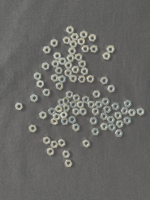nut: (67, 26, 75, 35), (71, 33, 80, 41), (43, 46, 52, 54), (75, 53, 83, 62), (55, 67, 64, 75), (37, 80, 45, 89), (116, 120, 125, 128), (65, 160, 74, 168), (80, 31, 88, 39), (89, 34, 97, 42), (63, 37, 71, 45), (78, 38, 86, 46), (82, 45, 90, 53), (107, 45, 115, 53), (103, 52, 111, 60), (91, 45, 99, 53), (54, 52, 62, 60), (79, 60, 87, 68), (52, 60, 60, 68), (42, 63, 50, 71), (34, 73, 42, 81), (65, 70, 73, 78), (72, 66, 80, 74), (81, 68, 89, 76), (51, 74, 59, 82), (70, 75, 78, 83), (87, 75, 95, 83), (56, 83, 64, 91), (43, 89, 51, 97), (15, 103, 23, 111), (101, 77, 109, 85), (108, 85, 116, 93), (66, 91, 74, 99), (73, 94, 81, 102), (70, 101, 78, 109), (55, 105, 63, 113), (49, 108, 57, 116), (39, 112, 47, 120), (29, 125, 37, 133), (125, 100, 133, 108), (129, 109, 137, 117), (112, 103, 120, 111), (102, 98, 110, 106), (104, 106, 112, 114), (92, 108, 100, 116), (115, 112, 123, 120), (124, 117, 132, 125), (108, 116, 116, 124), (101, 113, 109, 121), (109, 124, 117, 132), (101, 123, 109, 131), (92, 128, 100, 136), (53, 113, 61, 121), (69, 116, 77, 124), (73, 124, 81, 132), (83, 140, 91, 148), (51, 141, 59, 149), (43, 137, 51, 145), (47, 148, 55, 156), (63, 151, 71, 159), (51, 39, 58, 48), (59, 75, 66, 84), (78, 76, 87, 83), (31, 94, 38, 103), (121, 108, 130, 115), (60, 112, 69, 119), (59, 139, 66, 148), (70, 41, 78, 48), (69, 48, 77, 55), (67, 55, 75, 62), (59, 58, 67, 65), (65, 62, 73, 69), (93, 91, 101, 98), (63, 97, 70, 105), (58, 99, 65, 107), (78, 101, 85, 109), (83, 96, 90, 104), (63, 105, 71, 112), (138, 108, 145, 116), (89, 101, 96, 109), (96, 101, 104, 108), (80, 108, 87, 116), (73, 108, 80, 116), (116, 130, 124, 137), (90, 118, 98, 125), (51, 118, 59, 125), (61, 118, 69, 125)
